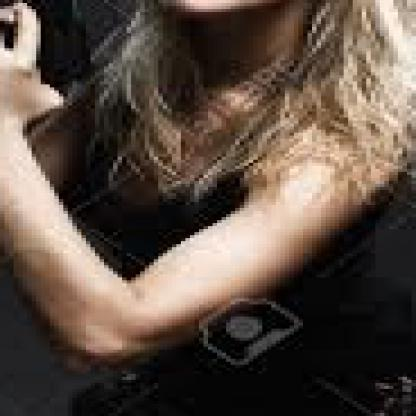gun: (0, 0, 87, 94)
